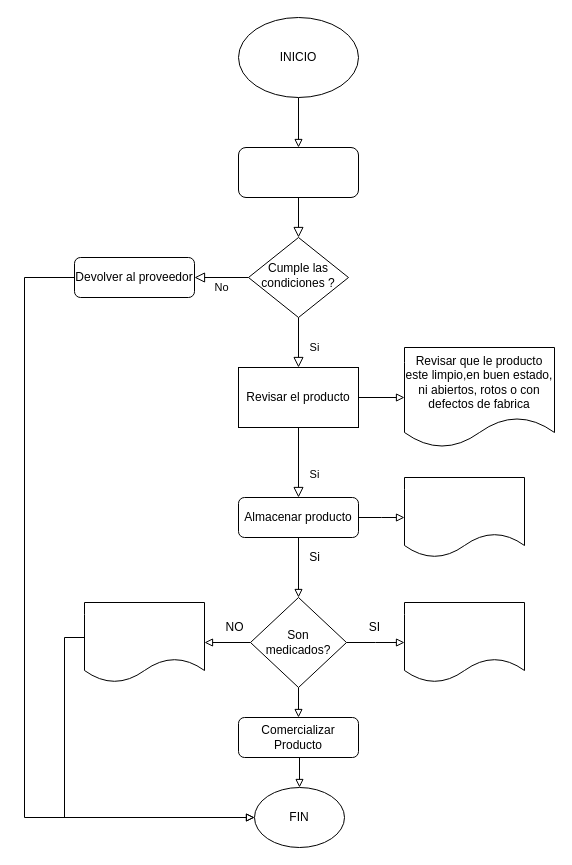
Some shapes in this 572 by 865 pixel diagram are drawn without their labels. The shapes that lost their labels are listed below. From the top down, each one's box as (x1, y1, x2, y2) in pixels, then its label:
(238, 146, 358, 198): verificar si los anteojos cumplen con las condiciones
(404, 476, 524, 558): Volumen,cantidad, tipo de lente, marco.
(84, 602, 204, 682): vender de manera libre
(404, 602, 524, 682): Pedir receta e historial medico
